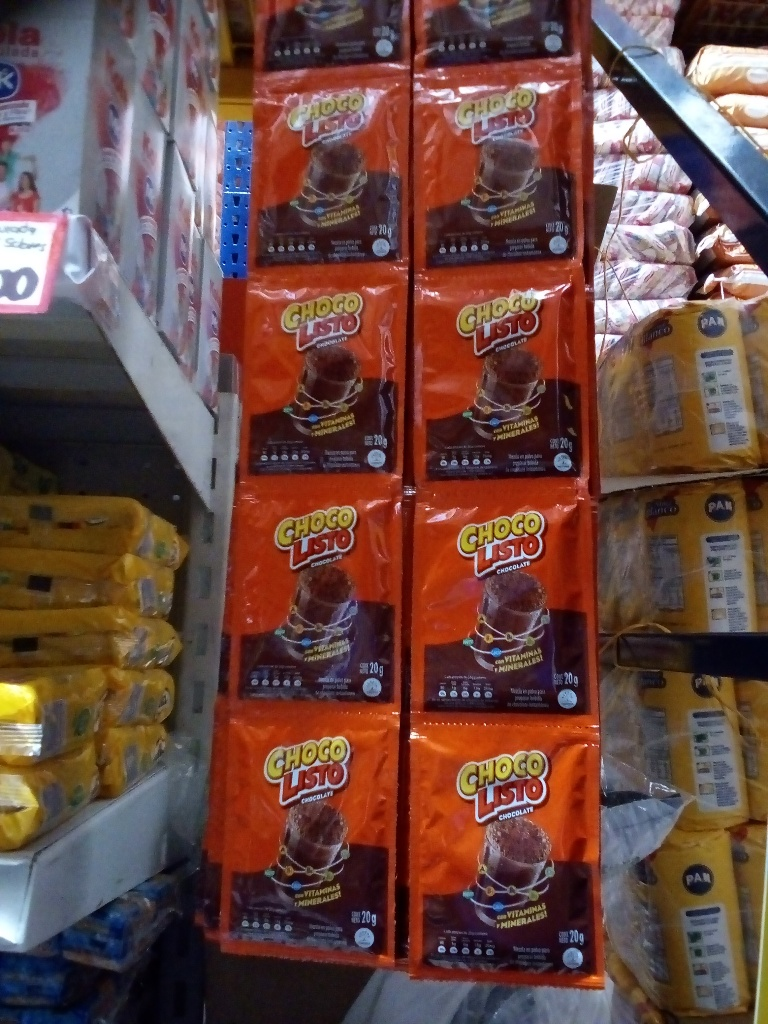COL0170103SOB02000: (245, 69, 415, 259)
